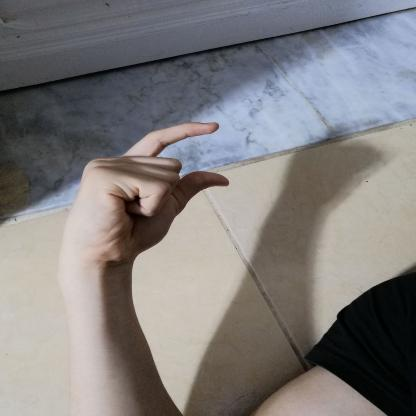DELL: (52, 113, 242, 276)
